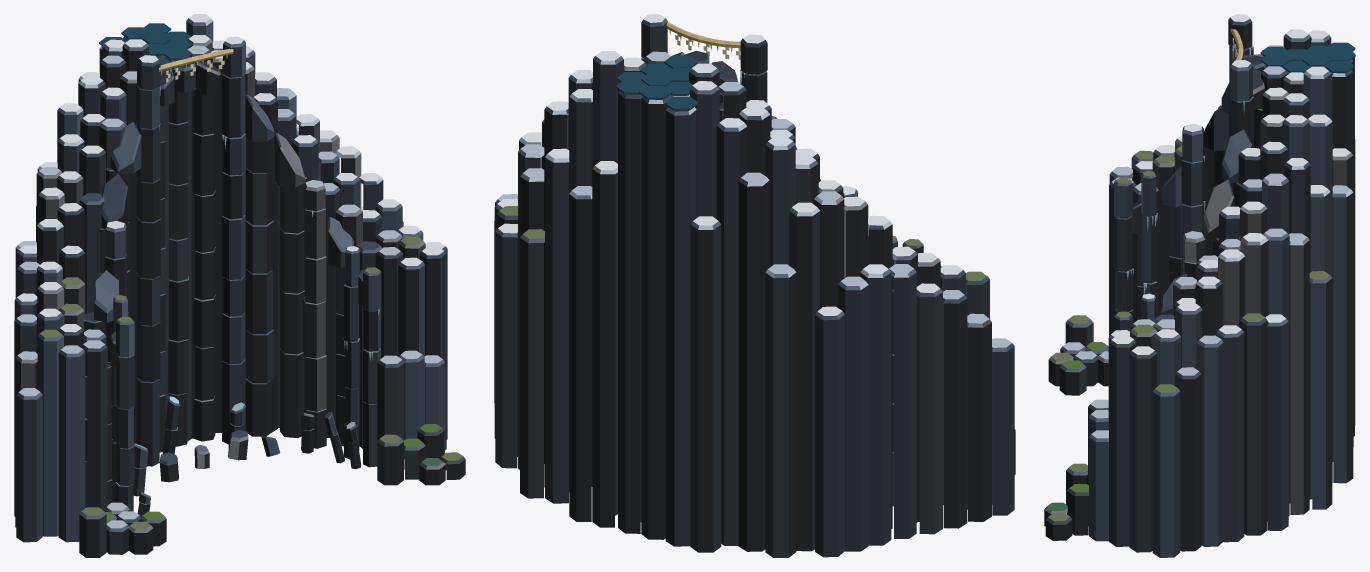
File: kohan_falls_cliff.fbx
The picture shows the model from 3 angles, left to right: view 1: azimuth 30°, elevation 25°; view 2: azimuth 150°, elevation 25°; view 3: azimuth 270°, elevation 25°; orthographic projection. The views are drawn at different scales.
Parts seen in each view (by area): view 1: kohan_falls_cliff; view 2: kohan_falls_cliff; view 3: kohan_falls_cliff.
Boxes of the visible parts, left/top/right/bottom form: kohan_falls_cliff: left=14, top=14, right=465, bottom=557; kohan_falls_cliff: left=494, top=14, right=1015, bottom=557; kohan_falls_cliff: left=1044, top=14, right=1355, bottom=557.
Bounding box in the file's own units: 51.49 × 45.68 × 31.29.
